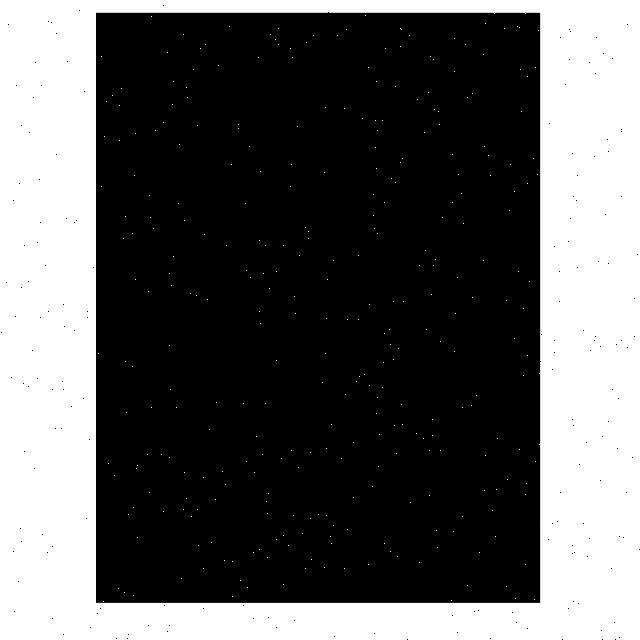Sweet_Potato: (96, 14, 541, 604)
